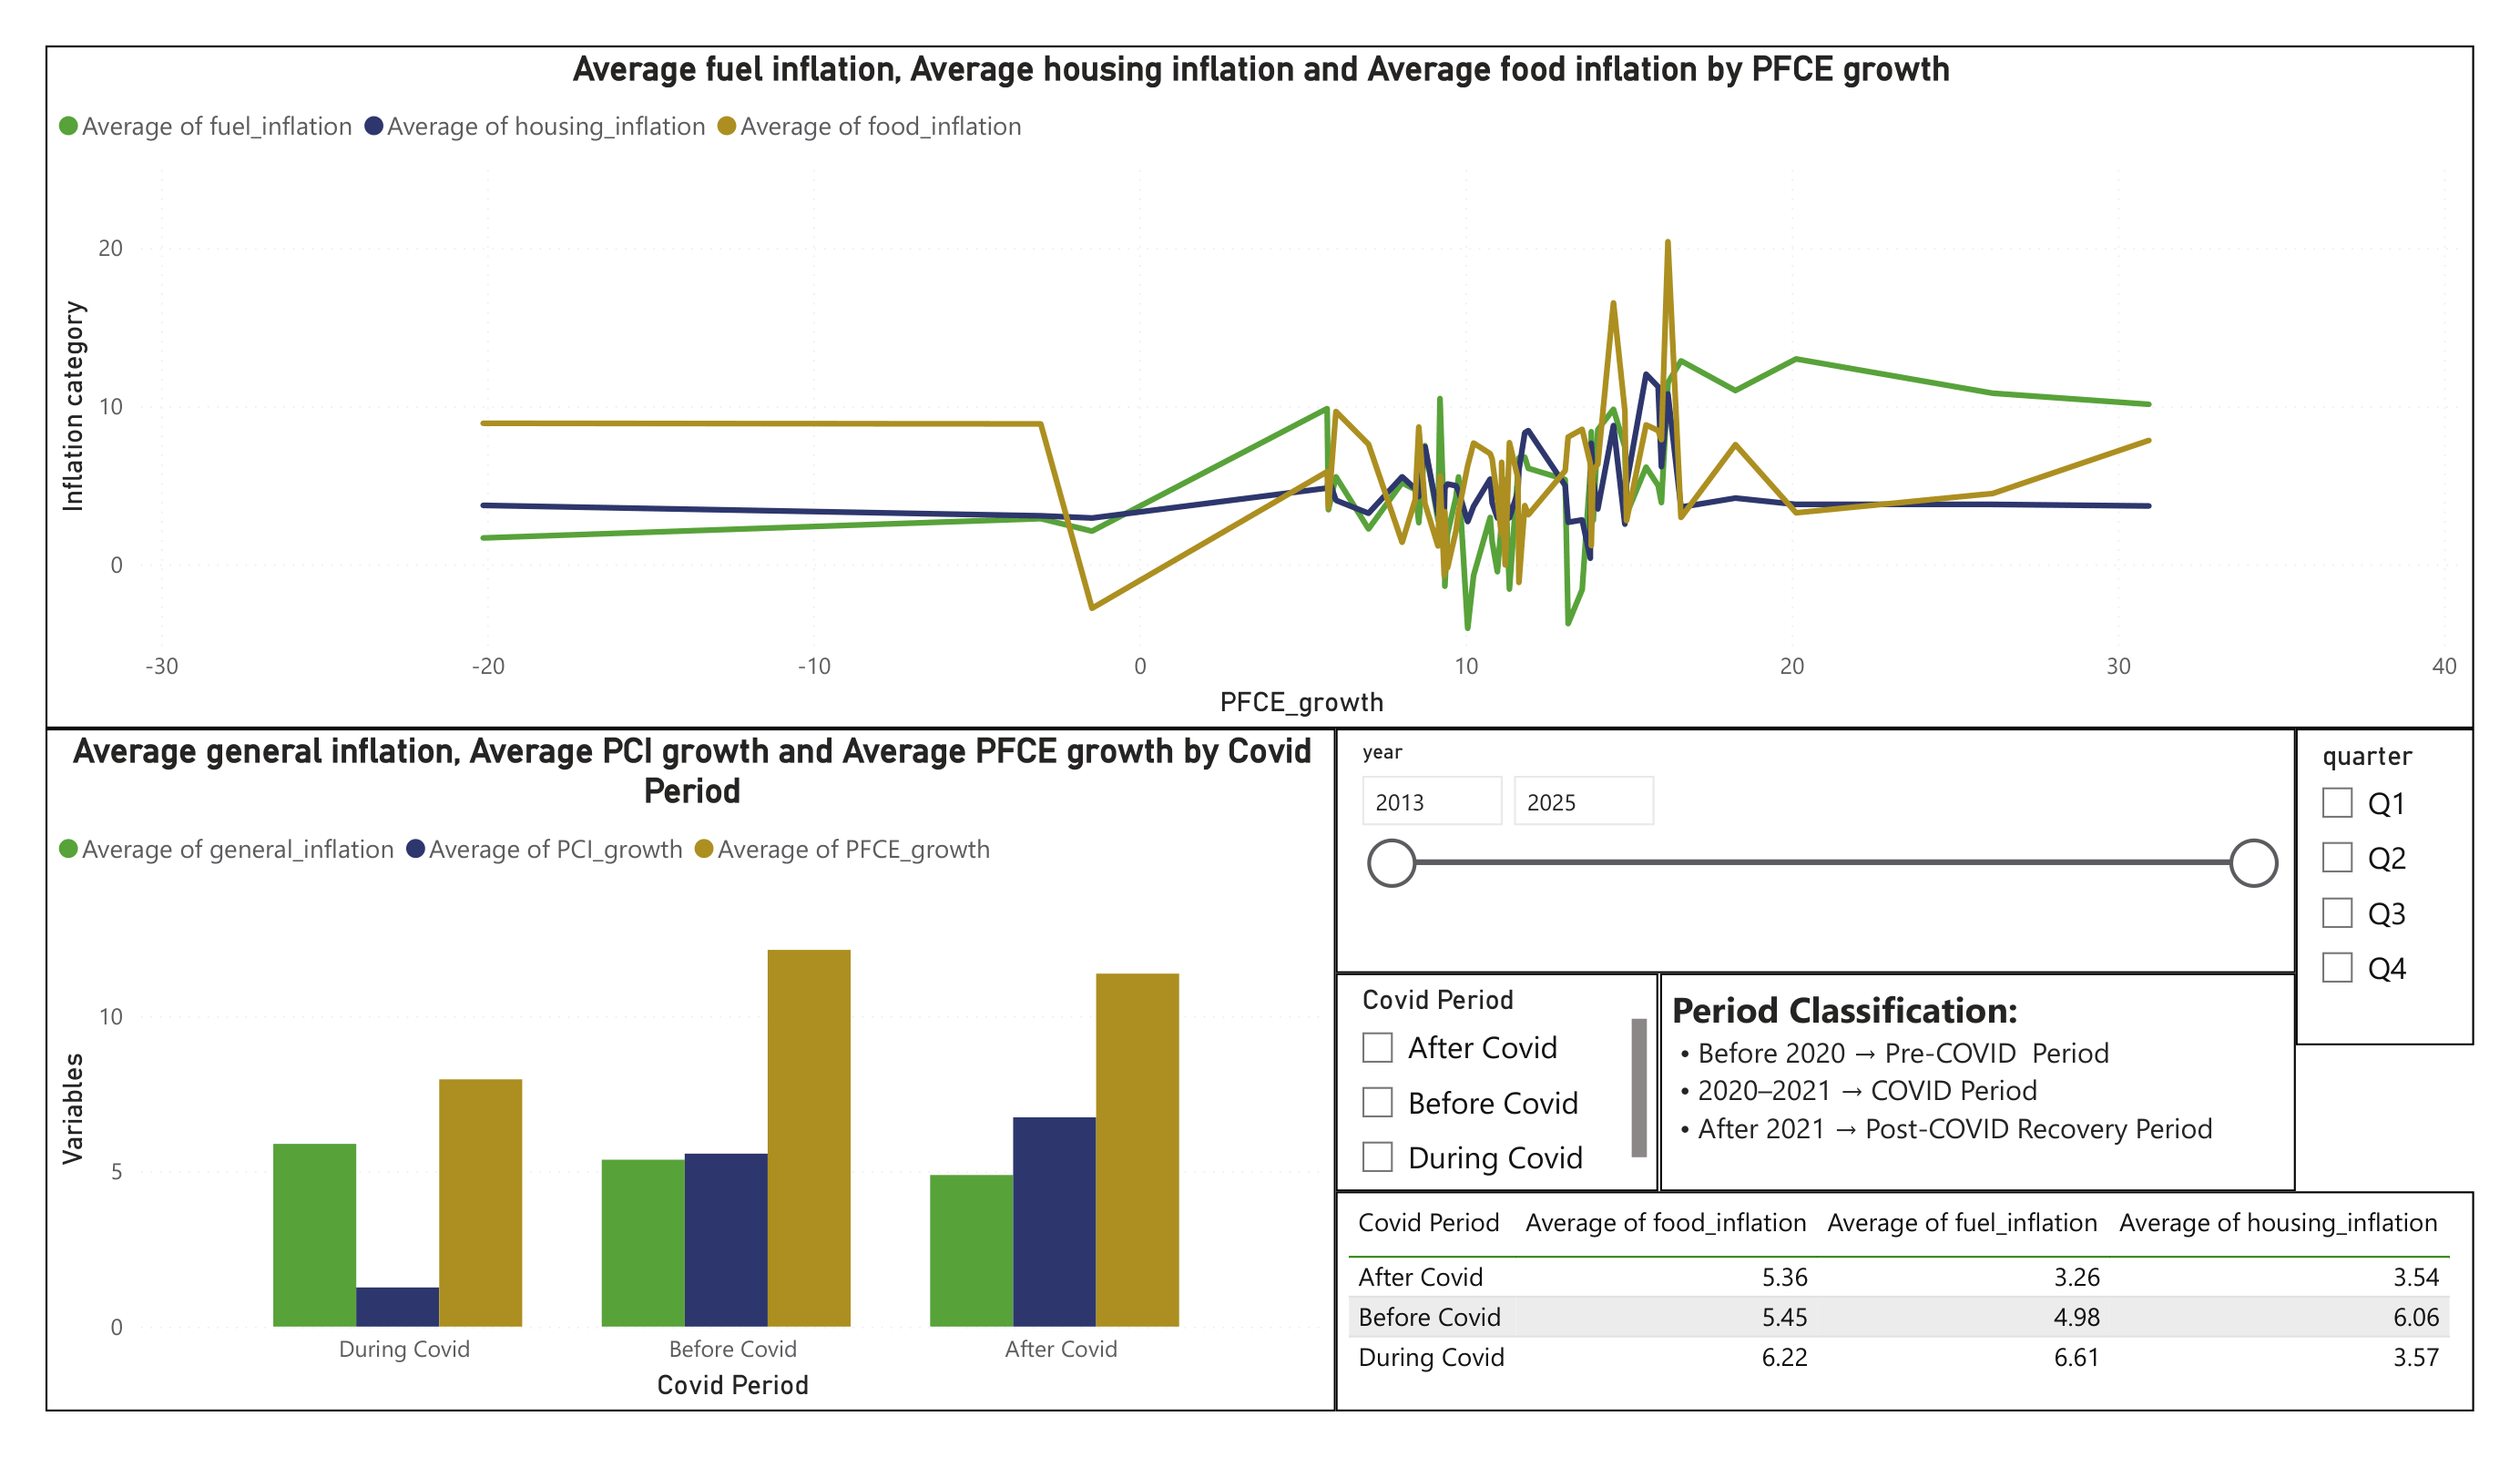

The page's visual inventory and layout, read from the dashboard file:
{"tool":"powerbi","page":{"name":"Covid Analysis","canvas":[1280,720],"ordinal":2},"visuals":[{"type":"lineChart","title":"Average fuel inflation, Average housing inflation and Average food inflation by PFCE growth","fields":{"Category":["final dataset.PFCE_growth"],"Y":["Avg(final dataset.fuel_inflation)","Avg(final dataset.housing_inflation)","Avg(final dataset.food_inflation)"]},"box":[0,0,1280,360],"z":0},{"type":"clusteredColumnChart","title":"Average general inflation, Average PCI growth and Average PFCE growth by Covid Period","fields":{"Category":["final dataset.Covid Period"],"Y":["Avg(final dataset.general_inflation)","Avg(final dataset.PCI_growth)","Avg(final dataset.PFCE_growth)"]},"box":[0,360,680,360],"z":1000},{"type":"slicer","fields":{"Values":["final dataset.year"]},"box":[680,360,505.7,128.6],"z":2000},{"type":"slicer","fields":{"Values":["final dataset.quarter"]},"box":[1185.7,360,94.3,167.1],"z":3000},{"type":"slicer","fields":{"Values":["final dataset.Covid Period"]},"box":[680,488.6,170,115.7],"z":4000},{"type":"tableEx","fields":{"Values":["final dataset.Covid Period","Avg(final dataset.food_inflation)","Avg(final dataset.fuel_inflation)","Avg(final dataset.housing_inflation)"]},"box":[680,604.3,600,115.7],"z":5000},{"type":"textbox","box":[850.8,488.5,334.8,115.3],"z":6000}]}

Visuals, with their boxes in screenshot pixels (x1, y1, x2, y2):
"Average fuel inflation, Average housing inflation and Average food inflation by PFCE growth" lineChart: BBox(59, 53, 2456, 727)
"Average general inflation, Average PCI growth and Average PFCE growth by Covid Period" clusteredColumnChart: BBox(59, 727, 1332, 1401)
slicer - final dataset.year: BBox(1332, 727, 2280, 967)
slicer - final dataset.quarter: BBox(2280, 727, 2456, 1040)
slicer - final dataset.Covid Period: BBox(1332, 967, 1651, 1184)
tableEx - final dataset.Covid Period x Avg(final dataset.food_inflation): BBox(1332, 1184, 2456, 1401)
textbox: BBox(1652, 967, 2280, 1183)
